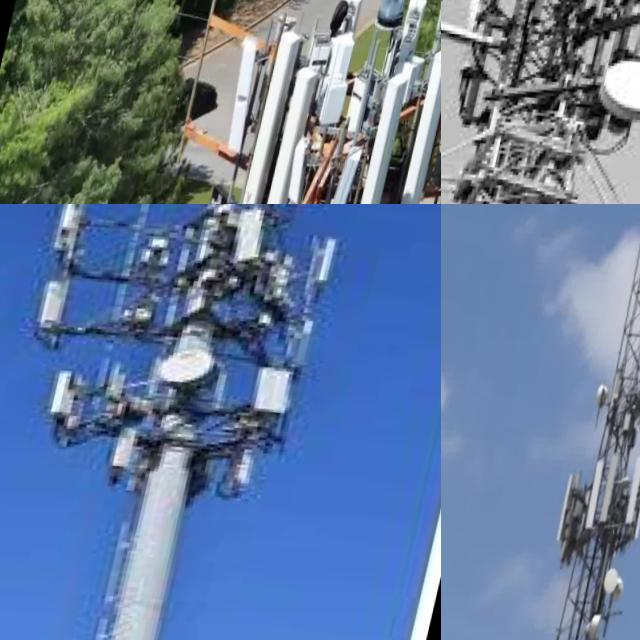GSM Antenna: (241, 32, 305, 204), (346, 76, 421, 204), (254, 72, 326, 204), (391, 48, 441, 204), (219, 37, 270, 158), (238, 367, 300, 442), (547, 458, 588, 566), (591, 436, 631, 543), (576, 448, 614, 549), (31, 204, 90, 264), (34, 272, 80, 346), (39, 369, 91, 433), (613, 446, 640, 558), (624, 454, 640, 556)
Microwave Antenna: (144, 349, 232, 417), (594, 50, 640, 147), (606, 566, 631, 605), (596, 384, 618, 420), (618, 578, 635, 608), (591, 618, 610, 640)
